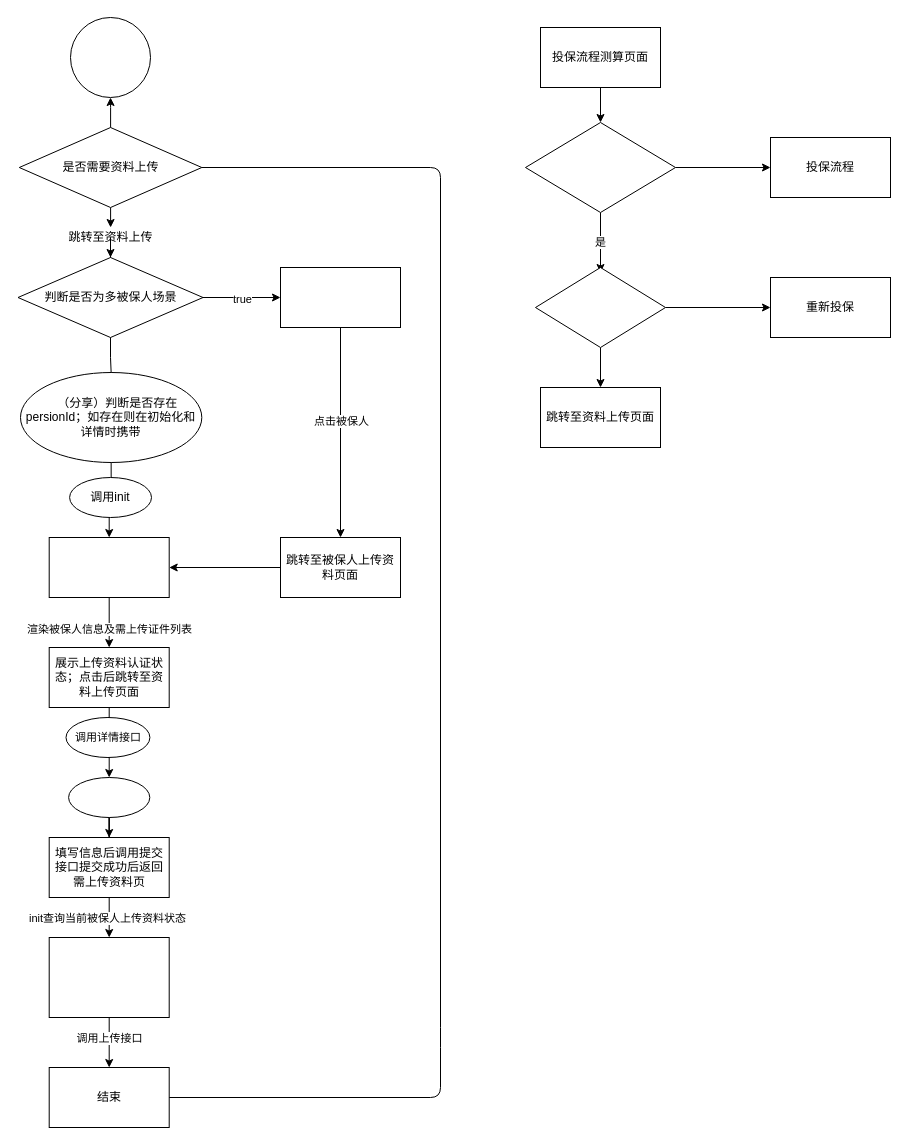
Image size: 908x1145. Some labels were removed from this diagram. Each missing label, with the centre of its shape:
判断是否需要进行资料补充上传: (x=600, y=167)
填写信息: (x=109, y=797)
展示多被保人列表页/及资料上传状态: (x=340, y=297)
展示被保人需上传资料页: (x=108, y=567)
开始: (x=110, y=57)
弹窗提示重新投保/去上传: (x=600, y=307)
（多）所有人资料上传成功后可点击提交按钮 （单）资料认证通过可点击提交按钮: (x=108, y=977)
